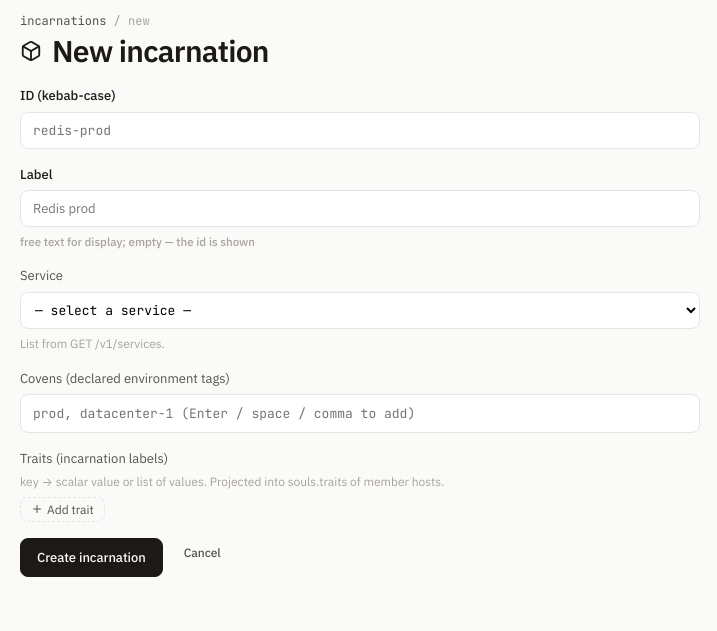
Test: TraitsEditor in the incarnation create form › adds a trait row via the button
Click the button with test id "traits-add-row" at (62, 509), box [20, 497, 105, 522]
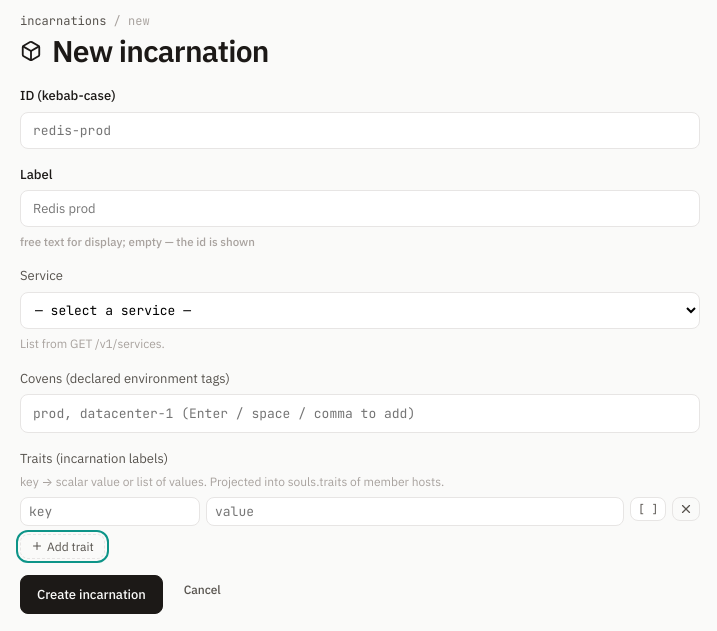
Result: the number of elements with test id "trait-row" is 1 at [20, 497, 700, 526]
